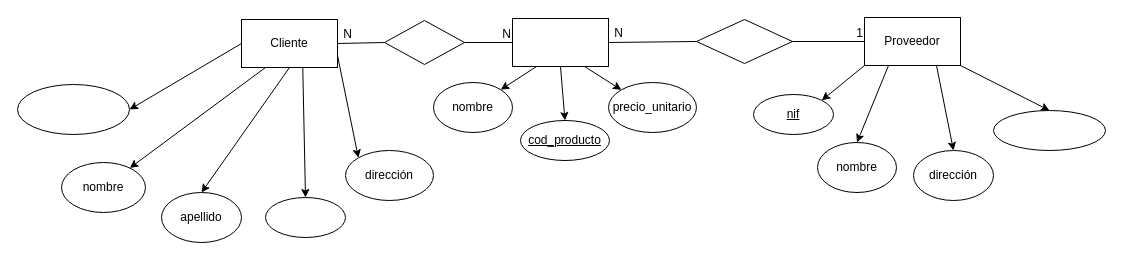
The diagram is 1123 pixels wide and 260 high, and some of its shapes have lost their labels. The shapes that lost their labels are listed below. From the top down, each one's centre as x and y in pixels, then its label:
point (424, 42): compra
point (560, 42): Producto
point (744, 41): siministra
point (73, 109): fecha_nacimiento
point (1049, 130): cod_proveedor
point (305, 217): dni
